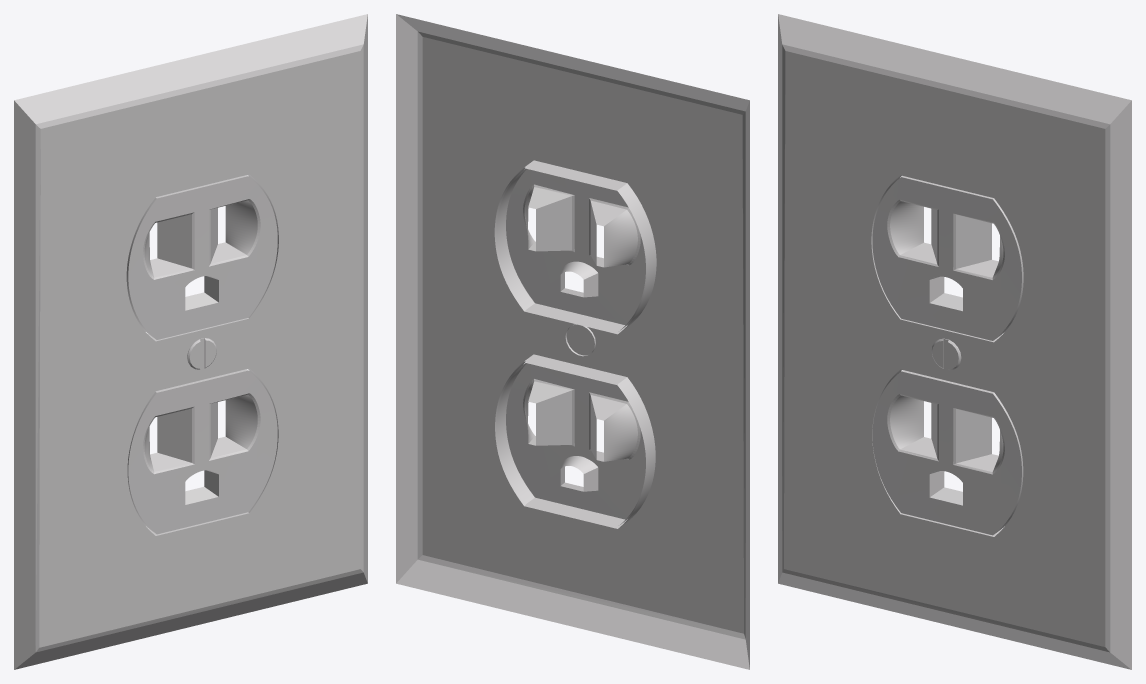
File: outlet.FBX
3 views of the same model, side by side, from view 1: azimuth 30°, elevation 25°; view 2: azimuth 150°, elevation 25°; view 3: azimuth 330°, elevation 25° (orthographic).
Parts seen in each view (by area): view 1: Rectangle001, Shape001, Shape002, Cylinder001; view 2: Rectangle001, Shape001, Shape002; view 3: Rectangle001, Shape002, Shape001, Cylinder001.
Part boxes in pixels (<box>): Rectangle001: <box>14,14,367,669</box>; Shape001: <box>126,175,277,339</box>; Shape002: <box>127,369,277,534</box>; Cylinder001: <box>187,338,216,369</box>; Rectangle001: <box>396,14,749,669</box>; Shape001: <box>496,168,646,332</box>; Shape002: <box>496,362,645,526</box>; Rectangle001: <box>778,14,1131,669</box>; Shape002: <box>872,370,1023,535</box>; Shape001: <box>872,176,1023,340</box>; Cylinder001: <box>931,338,961,370</box>.
Bounding box in the file's own units: 127 × 196 × 9.86.
1 material, 1 textured.
